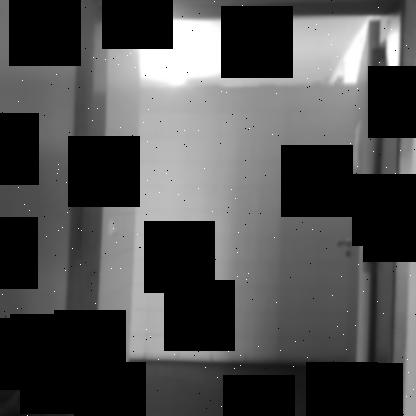Porte: (57, 0, 416, 415)
